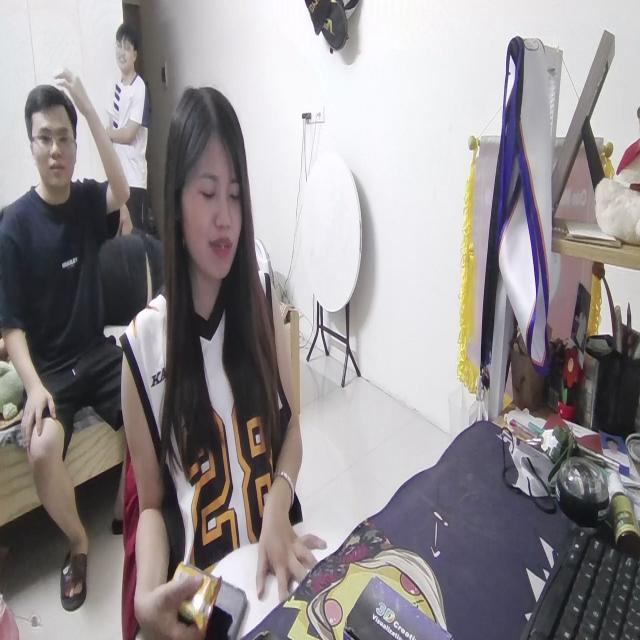book: (204, 518, 326, 624)
extra_person: (4, 66, 138, 610), (103, 19, 155, 214)
phone: (207, 570, 246, 640)
student: (118, 73, 320, 638)
